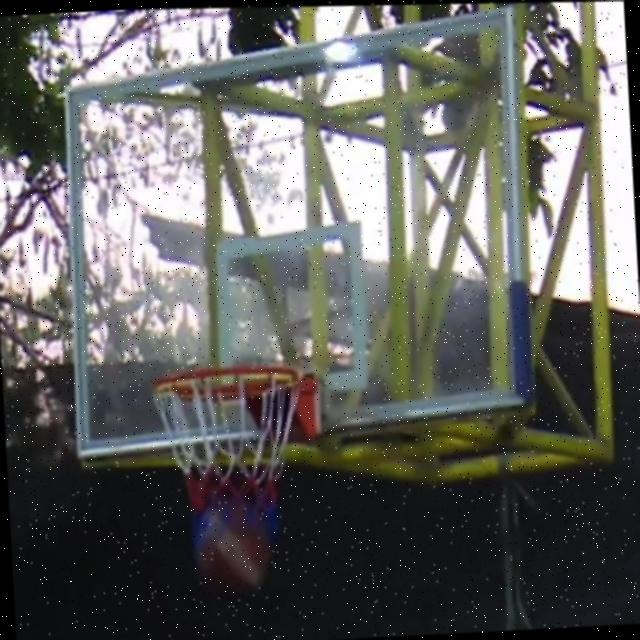ball: (174, 483, 286, 609)
hoop: (144, 360, 302, 400)
